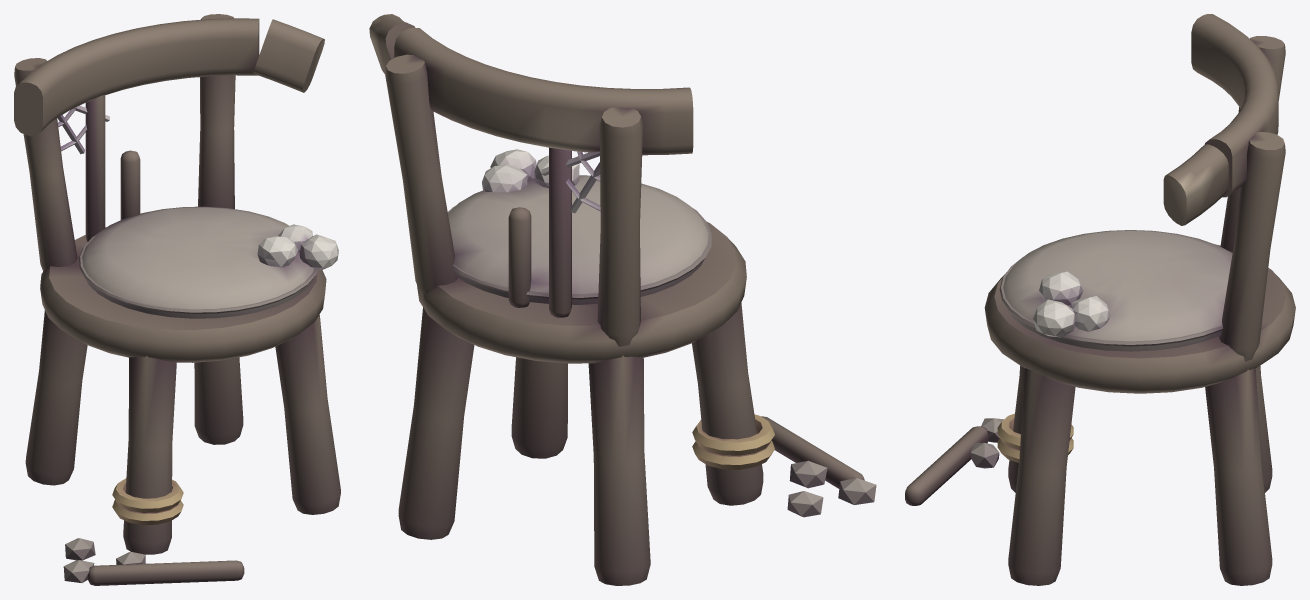
Rendered from chair_broken.glb.
The picture shows the model from 3 angles, left to right: view 1: azimuth 30°, elevation 25°; view 2: azimuth 150°, elevation 25°; view 3: azimuth 270°, elevation 25°; orthographic projection. The views are drawn at different scales.
Parts seen in each view (by area): view 1: chair_broken; view 2: chair_broken; view 3: chair_broken.
Part boxes in pixels (x1,y1,x2,y2): chair_broken: (14,14,340,585); chair_broken: (369,14,876,585); chair_broken: (905,14,1295,585).
Bounding box in the file's own units: 0.8954 × 1.03 × 0.8038.
